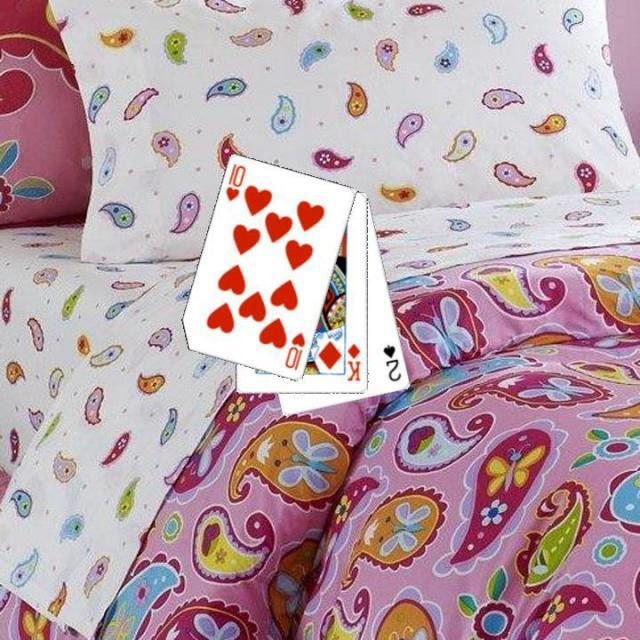10H: (281, 329, 307, 373), (222, 160, 248, 204)
2S: (380, 341, 404, 383)
KD: (344, 340, 362, 384)
